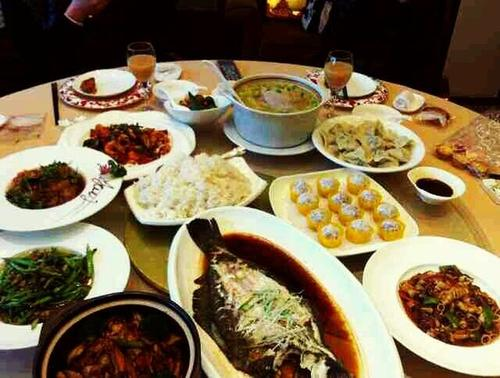food: (166, 211, 377, 377), (375, 238, 500, 359), (36, 286, 202, 376), (264, 164, 424, 257), (7, 222, 122, 321), (131, 146, 265, 221), (3, 140, 120, 223), (224, 58, 323, 148), (73, 105, 187, 182), (314, 101, 425, 173), (157, 74, 230, 127)
